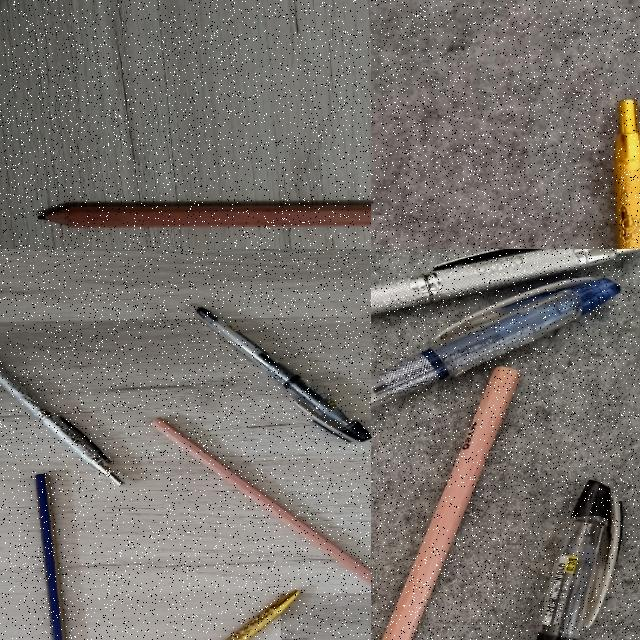pen: (371, 274, 627, 411), (197, 305, 367, 443), (489, 483, 623, 640), (0, 344, 122, 487)
pencil: (379, 366, 521, 640), (153, 418, 371, 585), (39, 204, 370, 227), (39, 472, 74, 640)
signature pen: (371, 249, 640, 316), (122, 591, 301, 640), (616, 101, 640, 249)
